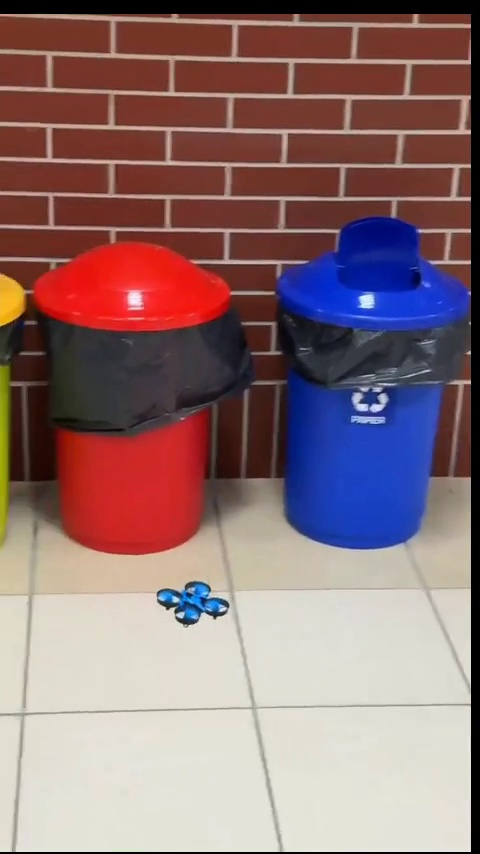drone: (157, 582, 229, 625)
